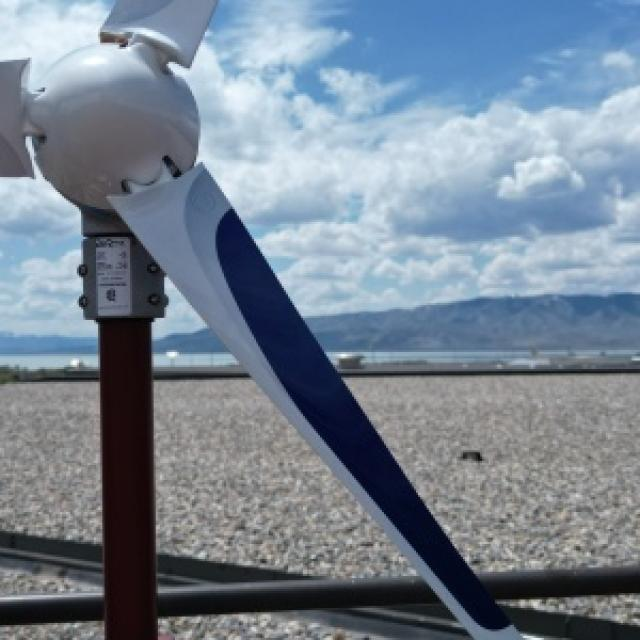healthy: (0, 0, 518, 638), (0, 179, 90, 363)
